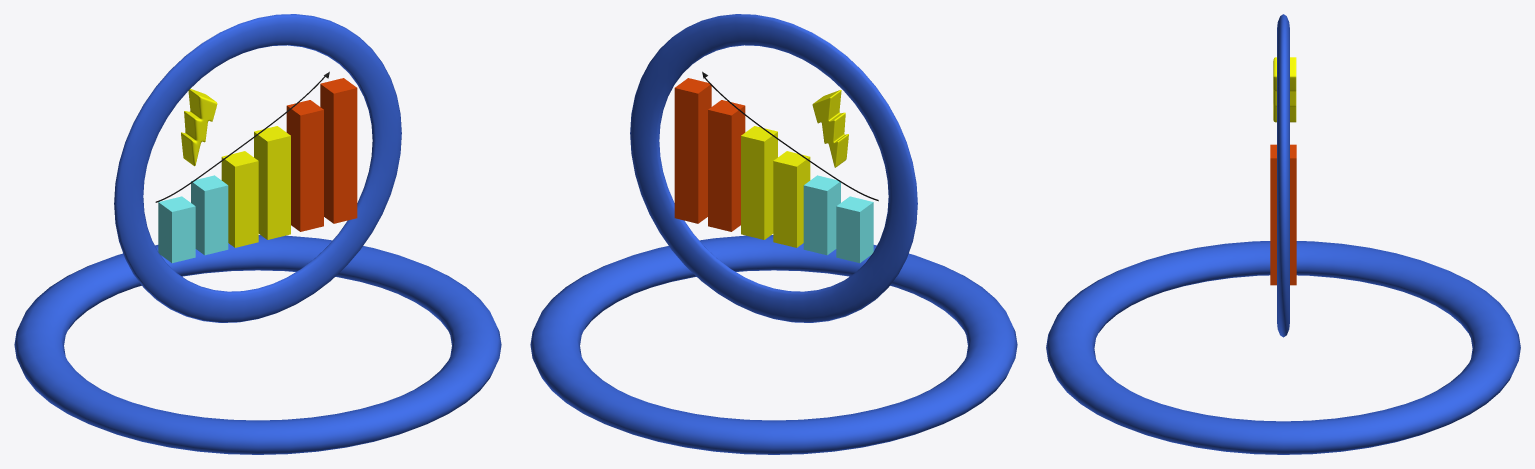
File: consumo_energetico.fbx
3 views of the same model, side by side, from view 1: azimuth 30°, elevation 25°; view 2: azimuth 150°, elevation 25°; view 3: azimuth 270°, elevation 25° (orthographic). The views are drawn at different scales.
Parts seen in each view (by area): view 1: Rosca.014, Cube.004, Cube.003, Cube.002, Cube.005, Cube.001, Cube, Mesh.002; view 2: Rosca.014, Cube.004, Cube.003, Cube.002, Cube.005, Cube.001, Cube, Mesh.002; view 3: Rosca.014, Cube.004, Mesh.002.
Part boxes in pixels (<box>): Rosca.014: <box>14,14,501,454</box>; Cube.004: <box>320,78,357,223</box>; Cube.003: <box>286,100,323,231</box>; Cube.002: <box>254,126,290,239</box>; Cube.005: <box>221,151,258,247</box>; Cube.001: <box>191,175,228,255</box>; Cube: <box>158,196,195,263</box>; Mesh.002: <box>181,88,217,166</box>; Rosca.014: <box>530,14,1017,454</box>; Cube.004: <box>674,78,711,223</box>; Cube.003: <box>708,100,745,231</box>; Cube.002: <box>741,126,777,239</box>; Cube.005: <box>773,151,810,247</box>; Cube.001: <box>803,175,840,255</box>; Cube: <box>836,196,873,263</box>; Mesh.002: <box>812,90,848,167</box>; Rosca.014: <box>1046,14,1520,454</box>; Cube.004: <box>1270,147,1296,285</box>; Mesh.002: <box>1273,57,1296,122</box>.
Bounding box in the file's own units: 6.1 × 4.71 × 6.1.
